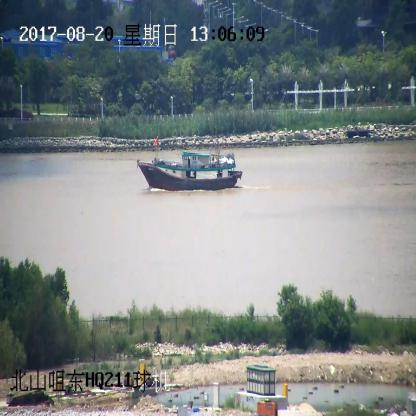Fishing Boat: (137, 133, 241, 193)
